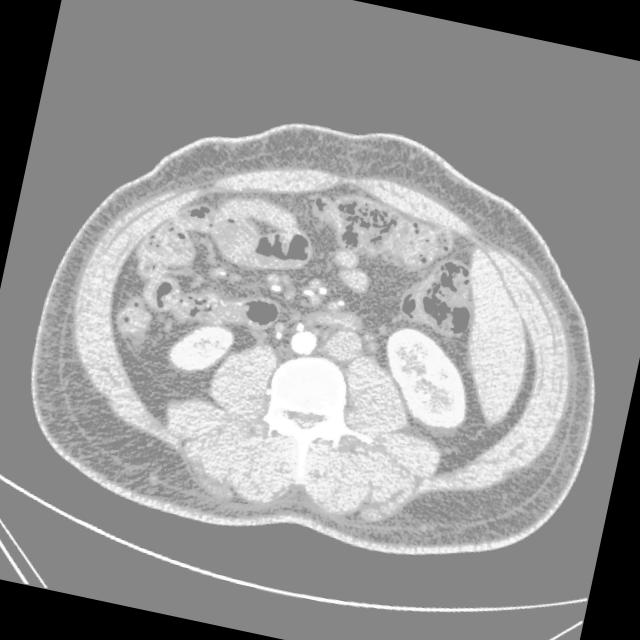NORMAL: (0, 64, 640, 615)
